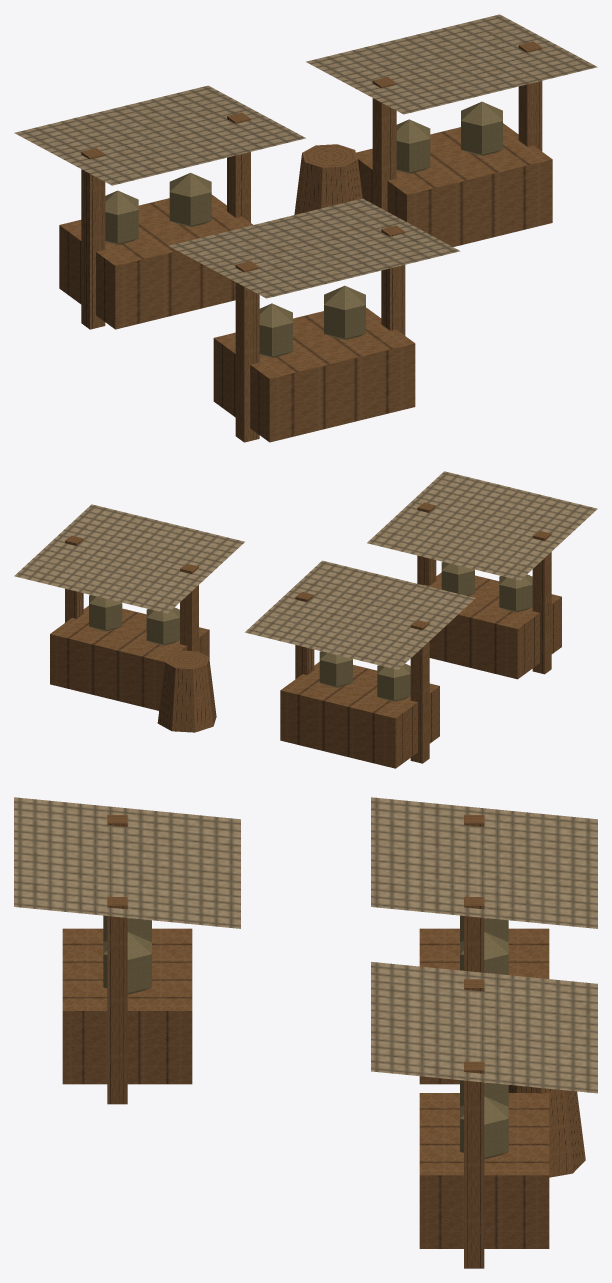
File: domestic-MARKET-2-lod0.glb
3 renders of one model, top to bottom at view 1: azimuth 30°, elevation 25°; view 2: azimuth 150°, elevation 25°; view 3: azimuth 270°, elevation 25°, orthographic. The views are drawn at different scales.
Size of the model in its own units: 0.8 by 0.28 by 0.72.
1 material, 1 textured.
